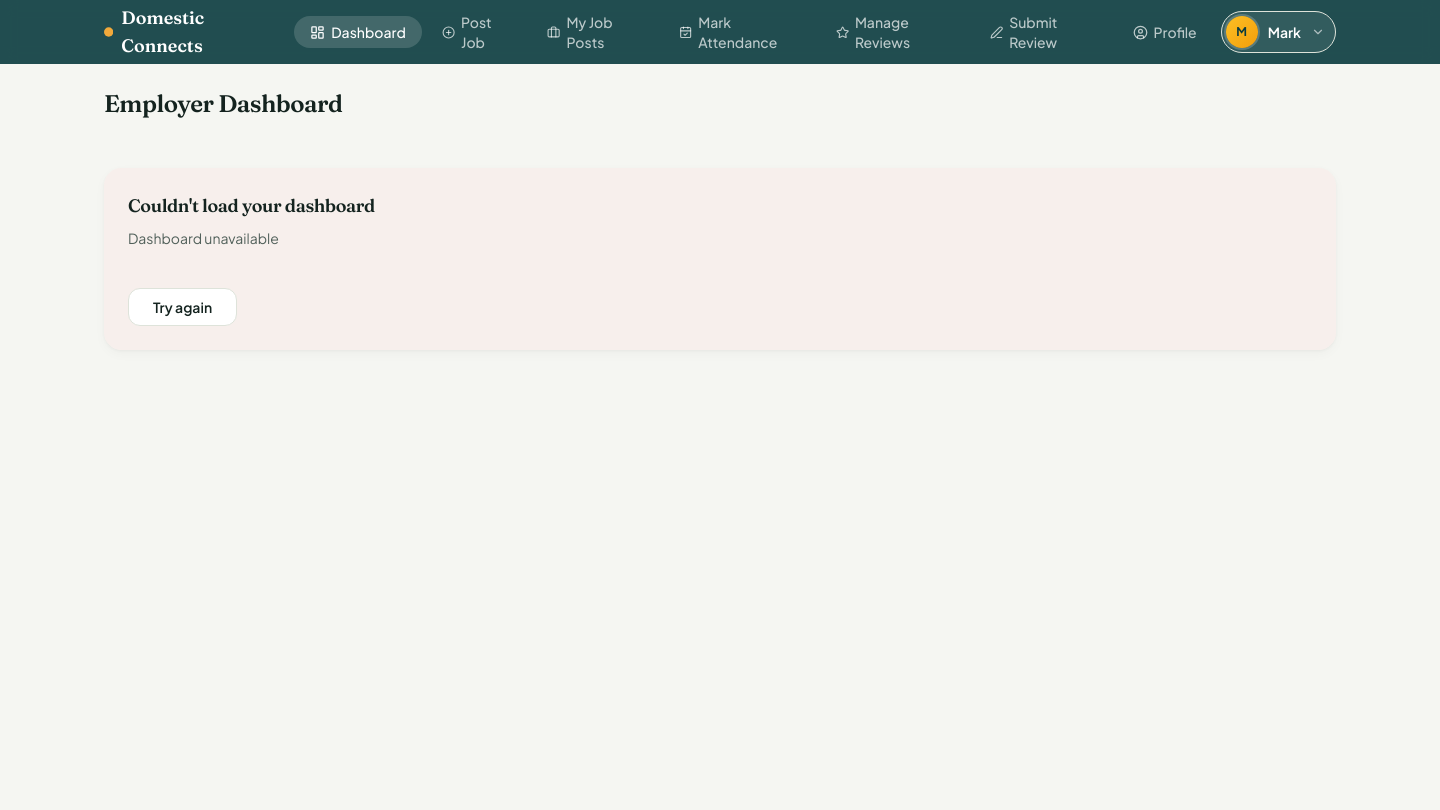
Test case: EmployerDashboard › shows an error with retry that recovers
This screenshot has width=1440, height=810.
Expected: the heading "Couldn't load your dashboard" is shown, [128,194,375,217]
Expected: the text "Dashboard unavailable" is shown, [128,229,279,247]
Click the button "Try again": (183, 307) [128,288,237,326]
(page scrolled)
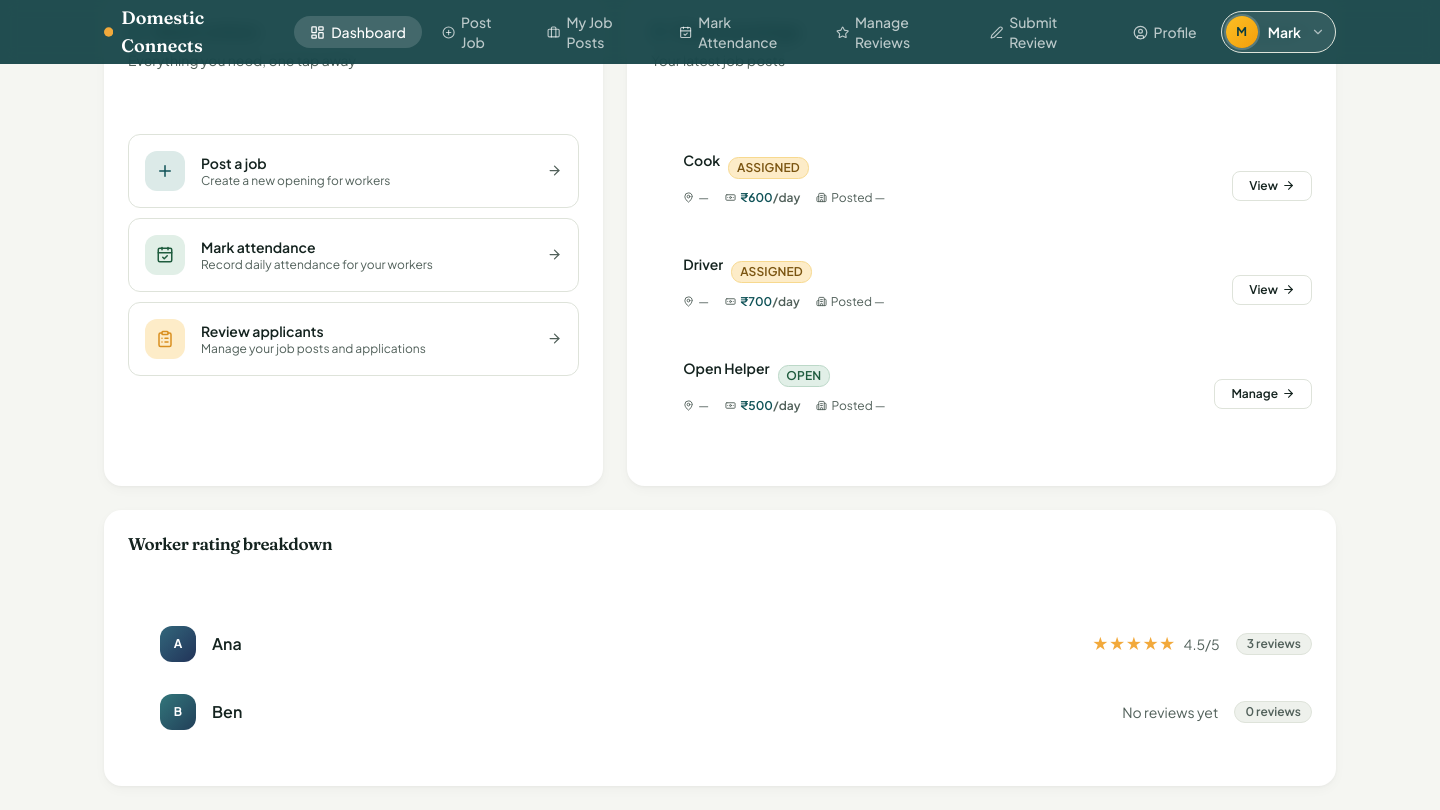
Now the heading "Worker rating breakdown" is shown, box [128,534,332,554]
